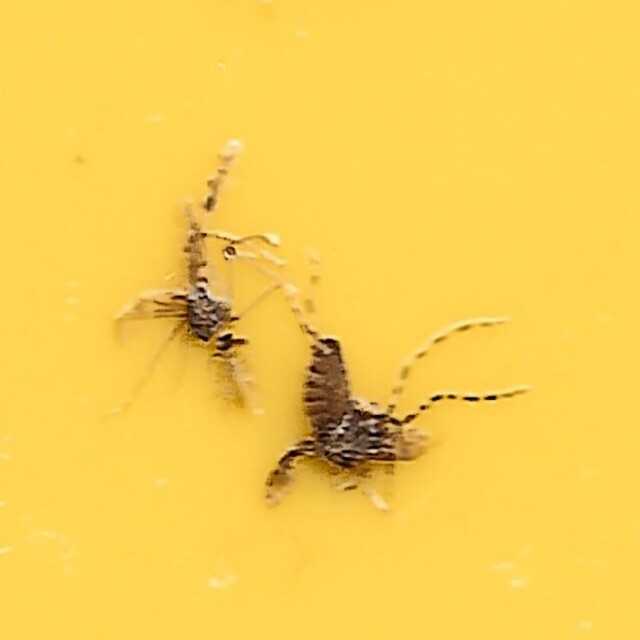Nematocera: (252, 309, 532, 504), (108, 136, 280, 419)
